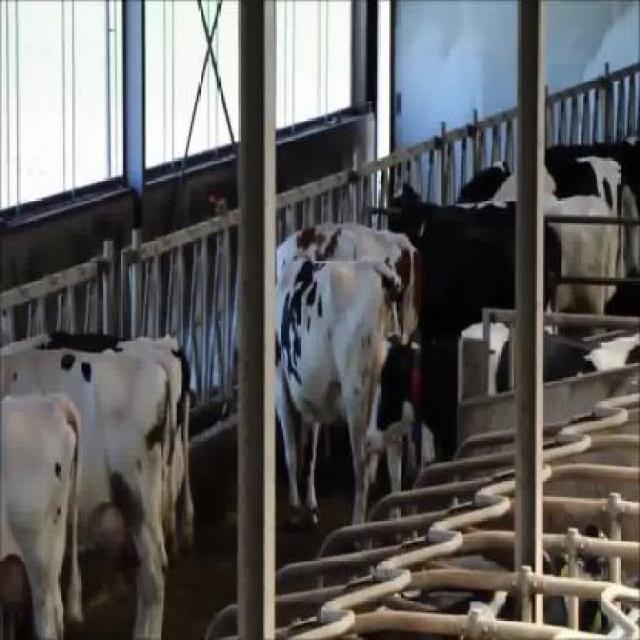Cow: (2, 352, 180, 638), (276, 252, 404, 552), (386, 184, 562, 338), (364, 314, 514, 469), (2, 392, 86, 638)
